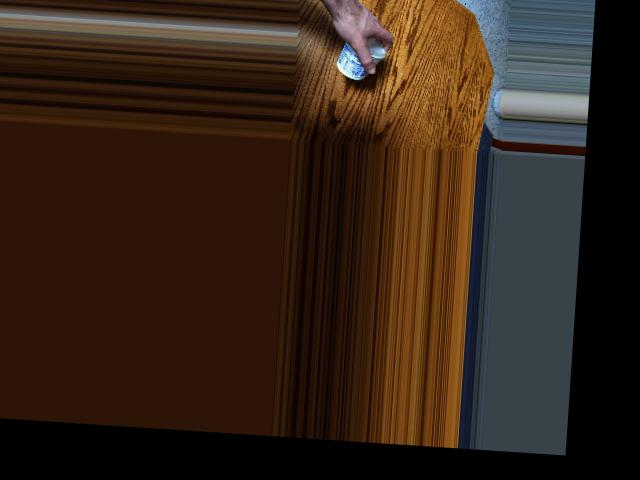cotage: (339, 37, 388, 81)
